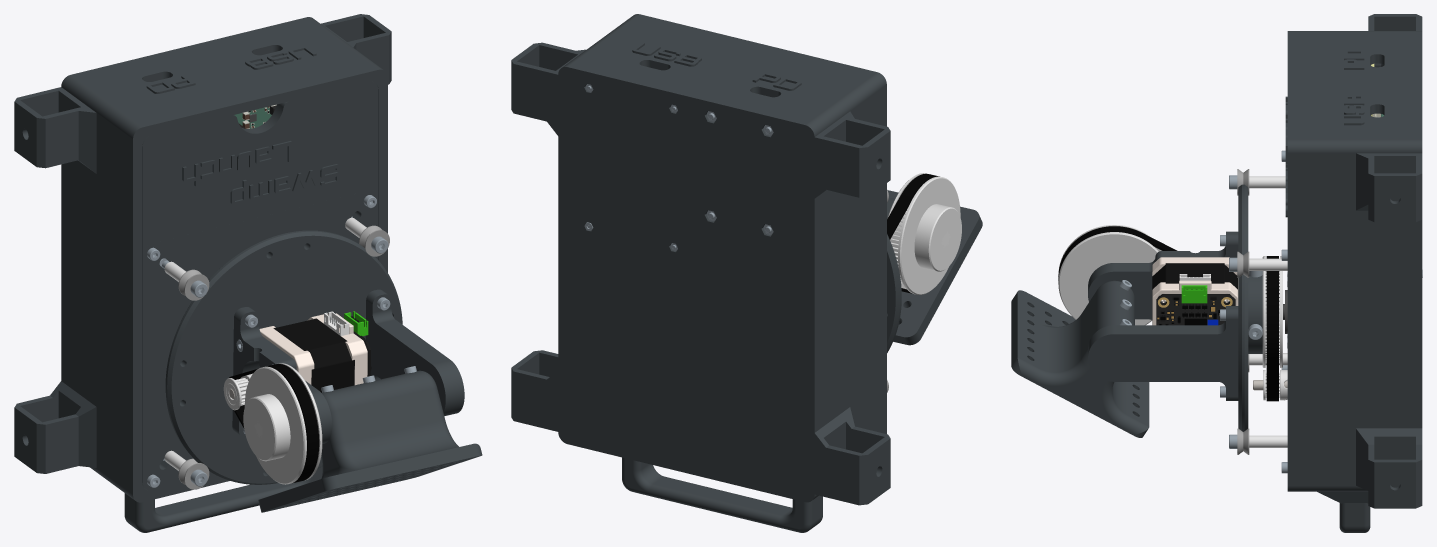
Rendered from Project_Sauron.glb.
3 renders of one model, left to right at view 1: azimuth 30°, elevation 25°; view 2: azimuth 150°, elevation 25°; view 3: azimuth 270°, elevation 25°, orthographic. The views are drawn at different scales.
Visible parts, largest first — view 1: Part 1_4, Part 1_10, Elevation_Plate, Antenna_Plate, Baseplate, GT2-80T_1, Part 1_8, Nema 17 (37)_1_sub2, Part 1_2, Nema 17 (37)_1_sub1, Part 1_7, 3684N12_Corrosion-Resistant Aluminum Gt Timing Belt Pulley_2; view 2: Part 1_4, GT2-80T_1, Antenna_Plate, Elevation_Plate, Part 1_7; view 3: Part 1_4, Antenna_Plate, Part 1_8, GT2-80T_1, Elevation_Plate, Part 1_2, Part 1_5, Nema 17 (37)_1_sub1, Nema 17 (37)_1_sub2, PCB_1_sub1, GT2-80T, Part 1_7 (+3 smaller).
Part boxes in pixels (x1,y1,x2,y2): Part 1_4: (14,14,391,532); Part 1_10: (142,81,378,255); Elevation_Plate: (165,230,402,484); Antenna_Plate: (258,370,482,512); Baseplate: (142,190,378,490); GT2-80T_1: (243,363,322,484); Part 1_8: (365,289,464,416); Nema 17 (37)_1_sub2: (274,318,354,392); Part 1_2: (232,307,332,443); Nema 17 (37)_1_sub1: (259,312,367,385); Part 1_7: (229,364,319,483); 3684N12_Corrosion-Resistant Aluminum Gt Timing Belt Pulley_2: (223,373,252,410); Part 1_4: (511,14,890,532); GT2-80T_1: (887,173,961,294); Antenna_Plate: (887,190,982,345); Elevation_Plate: (887,234,901,352); Part 1_7: (887,173,939,293); Part 1_4: (1287,14,1422,532); Antenna_Plate: (1011,280,1149,437); Part 1_8: (1088,306,1238,400); GT2-80T_1: (1058,225,1161,325); Elevation_Plate: (1238,184,1262,431); Part 1_2: (1088,231,1238,319); Part 1_5: (1266,256,1278,401); Nema 17 (37)_1_sub1: (1152,257,1238,325); Nema 17 (37)_1_sub2: (1152,263,1237,289); PCB_1_sub1: (1156,295,1235,325); GT2-80T: (1262,256,1282,367); Part 1_7: (1058,226,1177,280).
Size of the model in its own units: 0.1882 by 0.222 by 0.2017.
